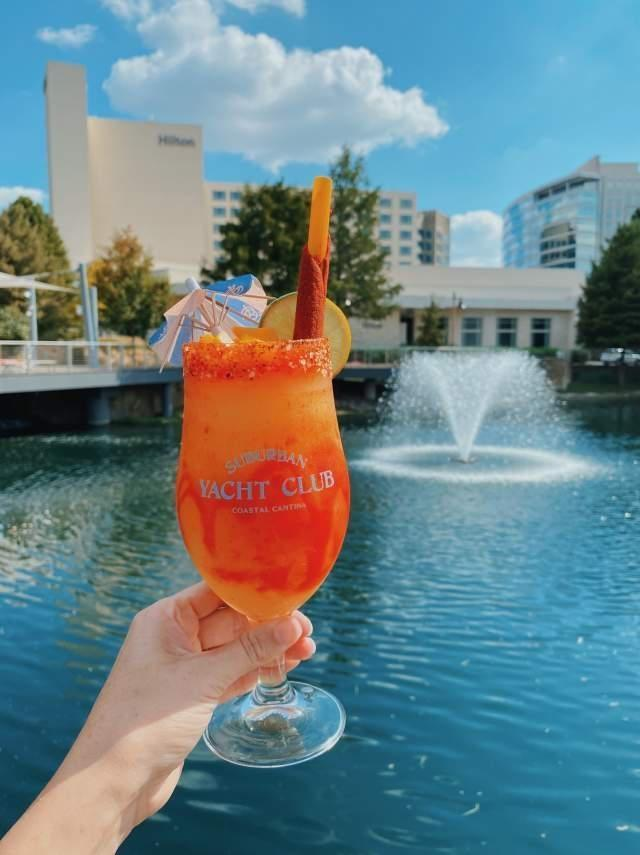glass-wine: (172, 325, 351, 767)
